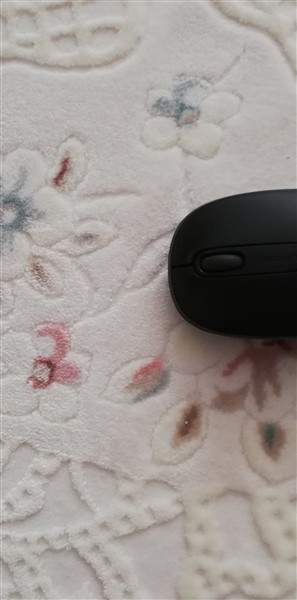mouse: (160, 181, 297, 347)
